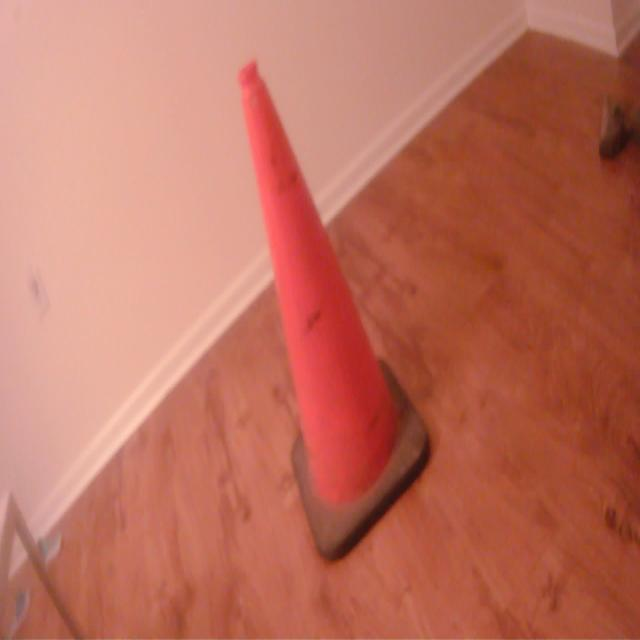traffic cone: (233, 53, 437, 569)
